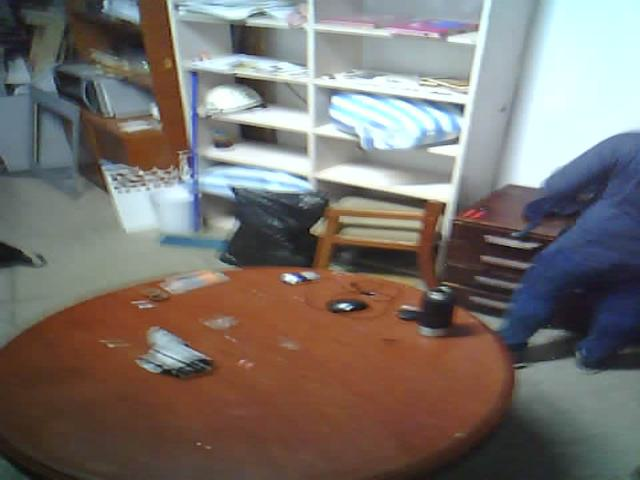person: (507, 83, 640, 383)
